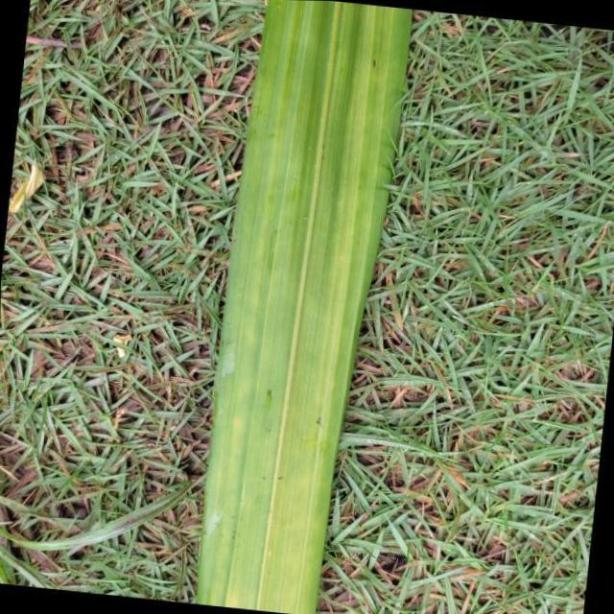nitrogen: (191, 0, 410, 614)
